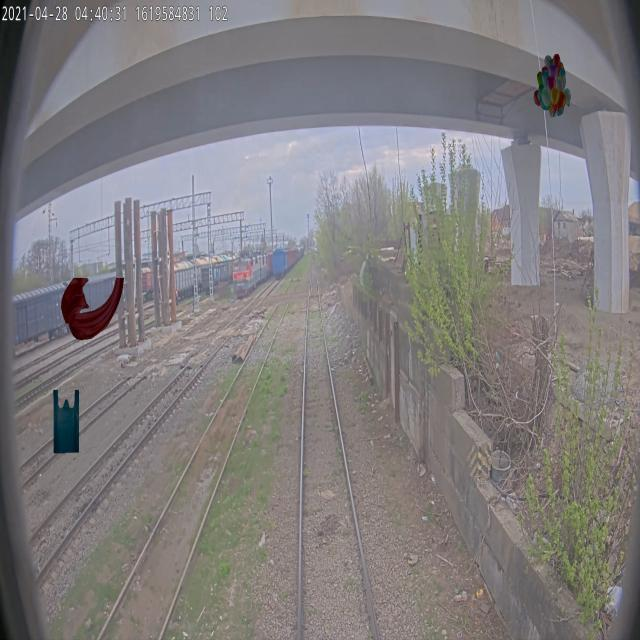balloon: (533, 54, 571, 118)
floating object: (61, 276, 124, 340)
plastic bag: (53, 389, 79, 454)
